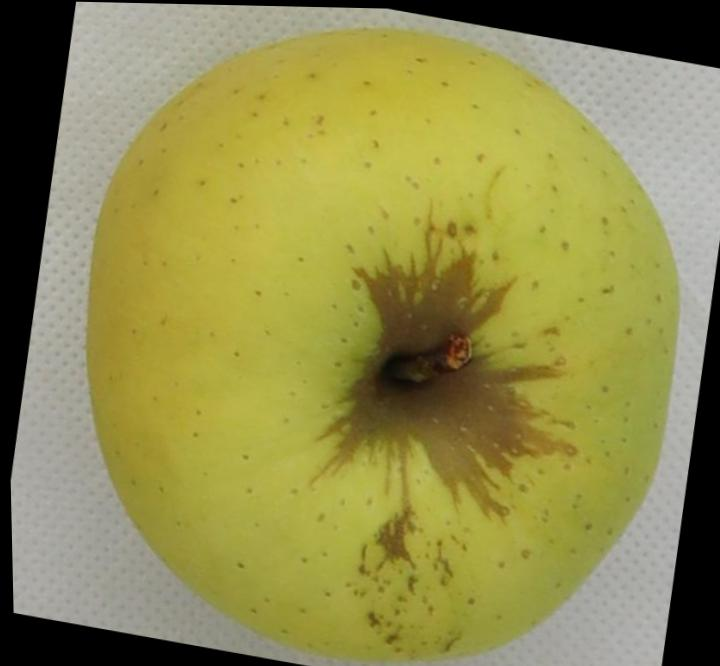apple: (89, 30, 678, 660)
bruise_discoloration: (319, 233, 575, 565)
